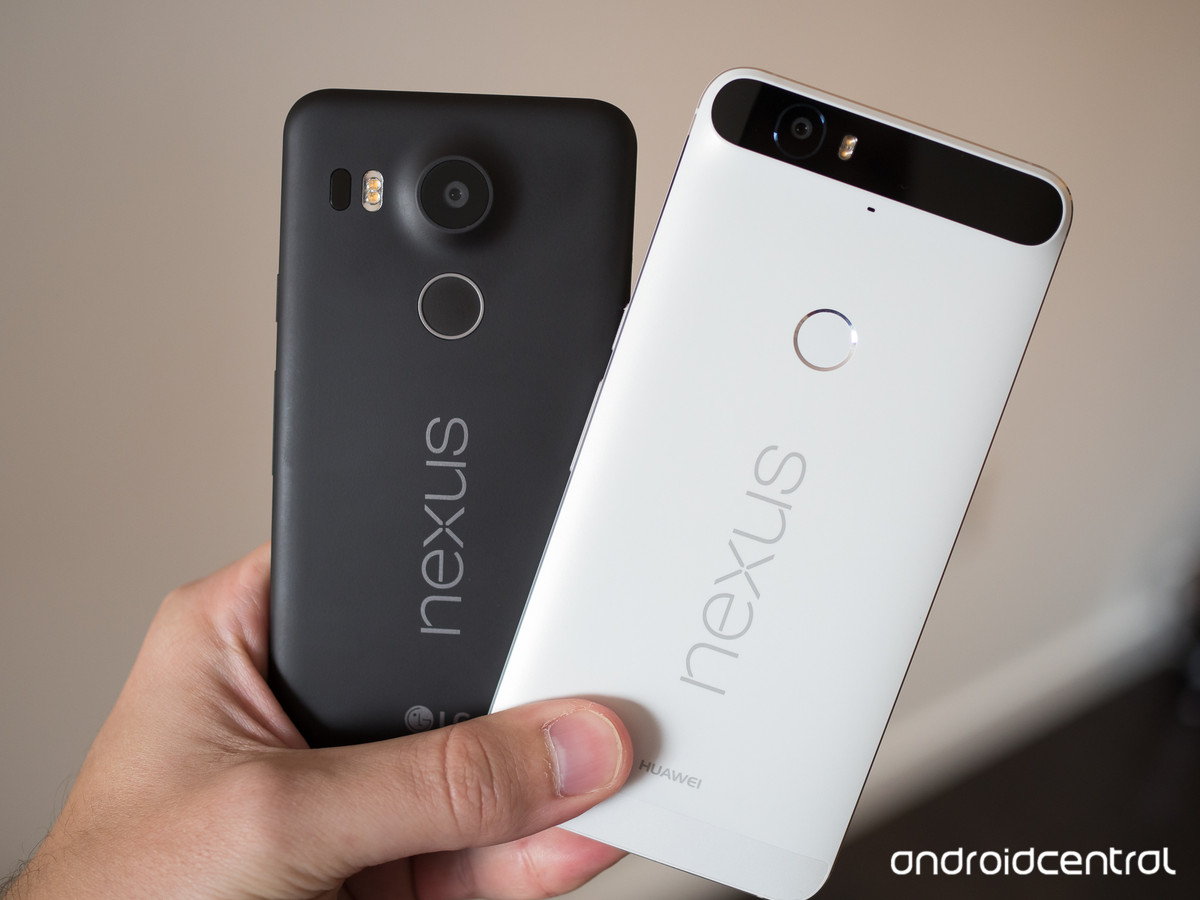smartphone: (488, 67, 1073, 900), (266, 88, 638, 751)
